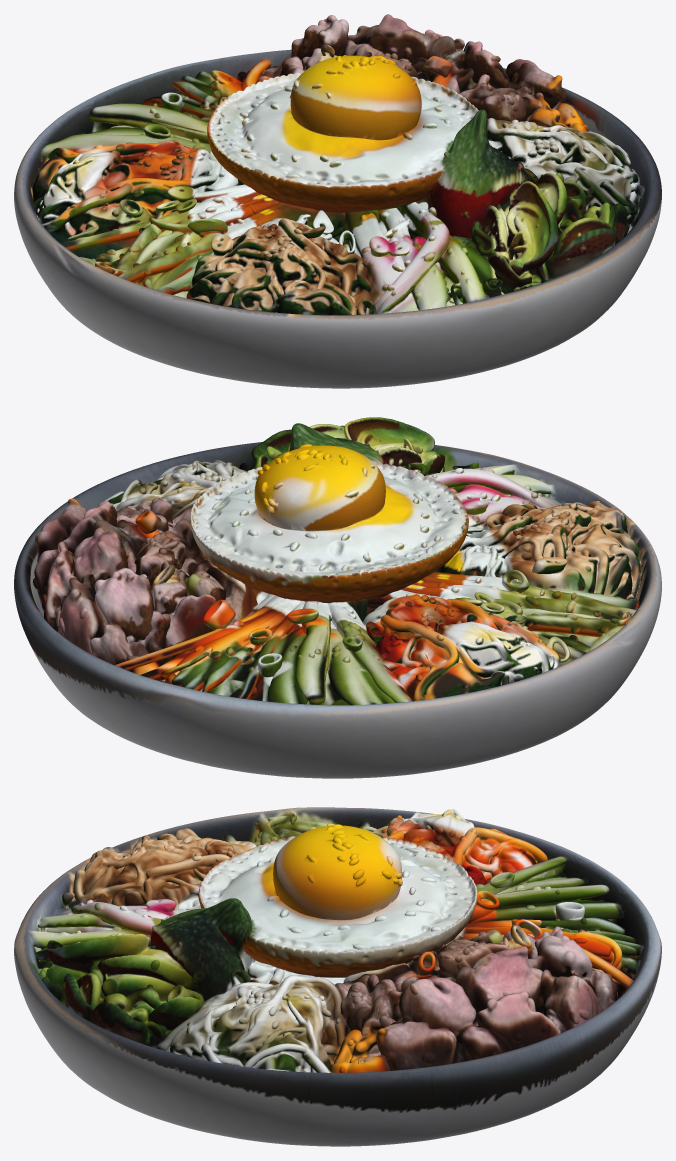
File: Ramen.glb
3 views of the same model, one above another, from view 1: azimuth 30°, elevation 25°; view 2: azimuth 150°, elevation 25°; view 3: azimuth 270°, elevation 25° (orthographic).
Parts seen in each view (by area): view 1: tripo_node_645e099d-8170-4eb2-8809-4c58560abb4a; view 2: tripo_node_645e099d-8170-4eb2-8809-4c58560abb4a; view 3: tripo_node_645e099d-8170-4eb2-8809-4c58560abb4a.
Boxes of the visible parts, x1,y1,x2,y2 form: tripo_node_645e099d-8170-4eb2-8809-4c58560abb4a: (14,14,661,388); tripo_node_645e099d-8170-4eb2-8809-4c58560abb4a: (14,417,661,778); tripo_node_645e099d-8170-4eb2-8809-4c58560abb4a: (14,807,661,1146).
Size of the model in its own units: 0.2928 by 0.1008 by 0.2939.
Materials: 1 (1 with a texture image).
